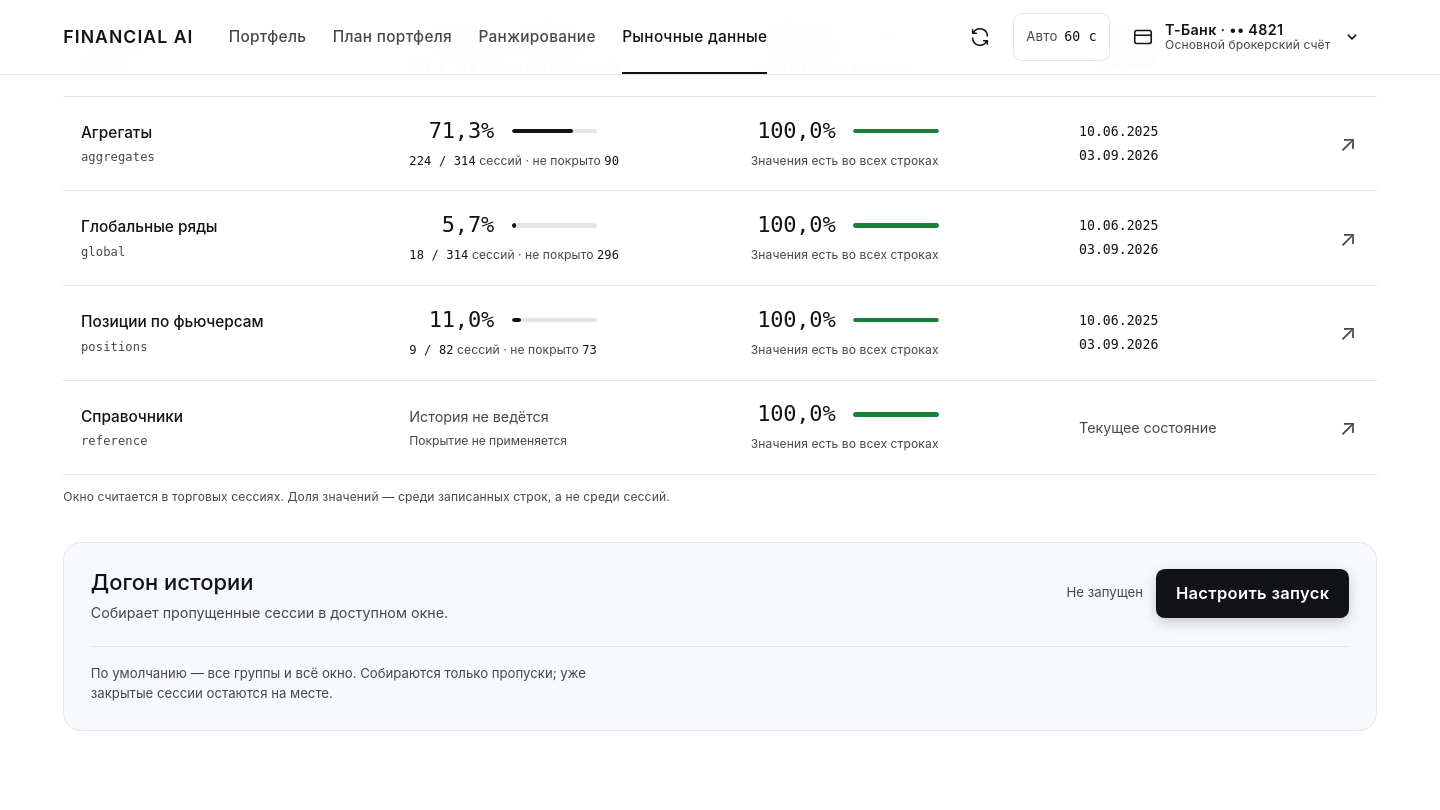
Test: отказы запуска › неизвестная группа: отказ объясняется как устаревший запрос
The image size is (1440, 810).
(page scrolled)
Click the button "Настроить запуск": point(1253, 593) [1156,569,1349,618]
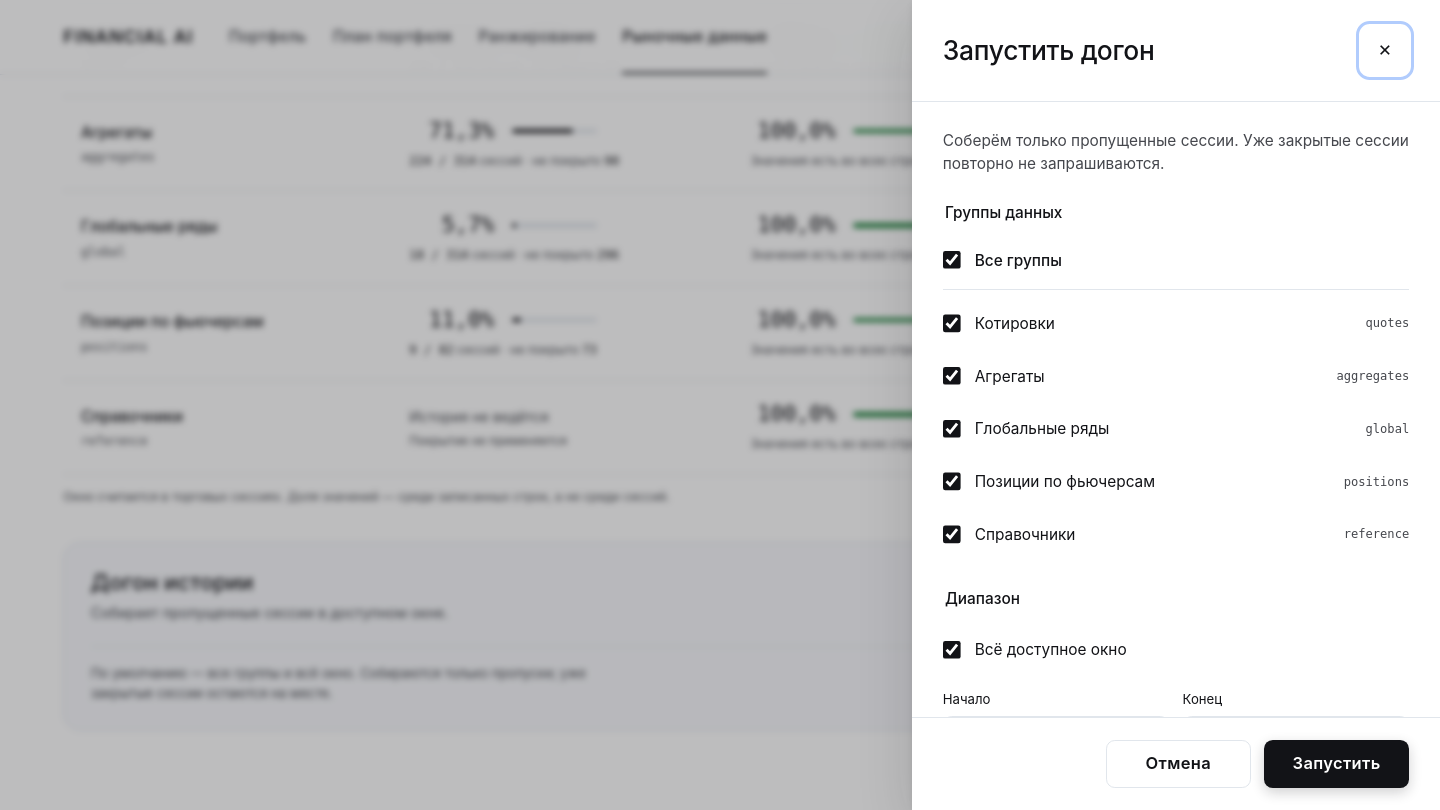
Click the button "Запустить": point(1337, 764) [1264,740,1409,788]
(page scrolled)
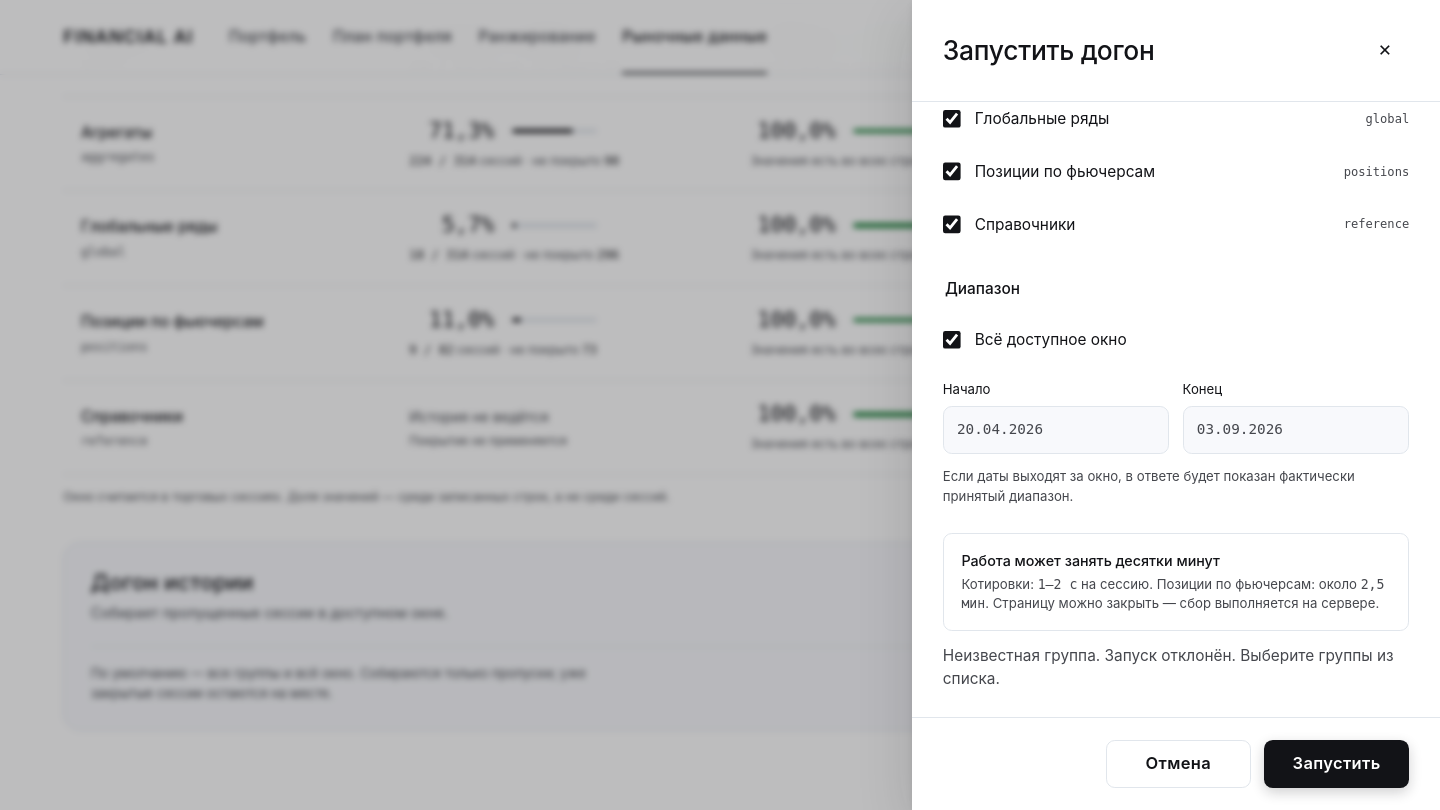
expect the message reads "Неизвестная группа. Запуск отклонён. Выберите группы из списка.": met, box [943,646,1394,688]
